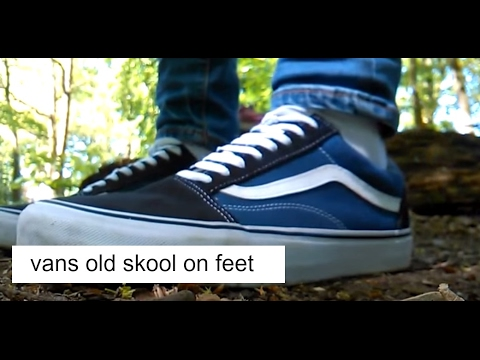Vans Old Skool Blue: (14, 104, 419, 287)
